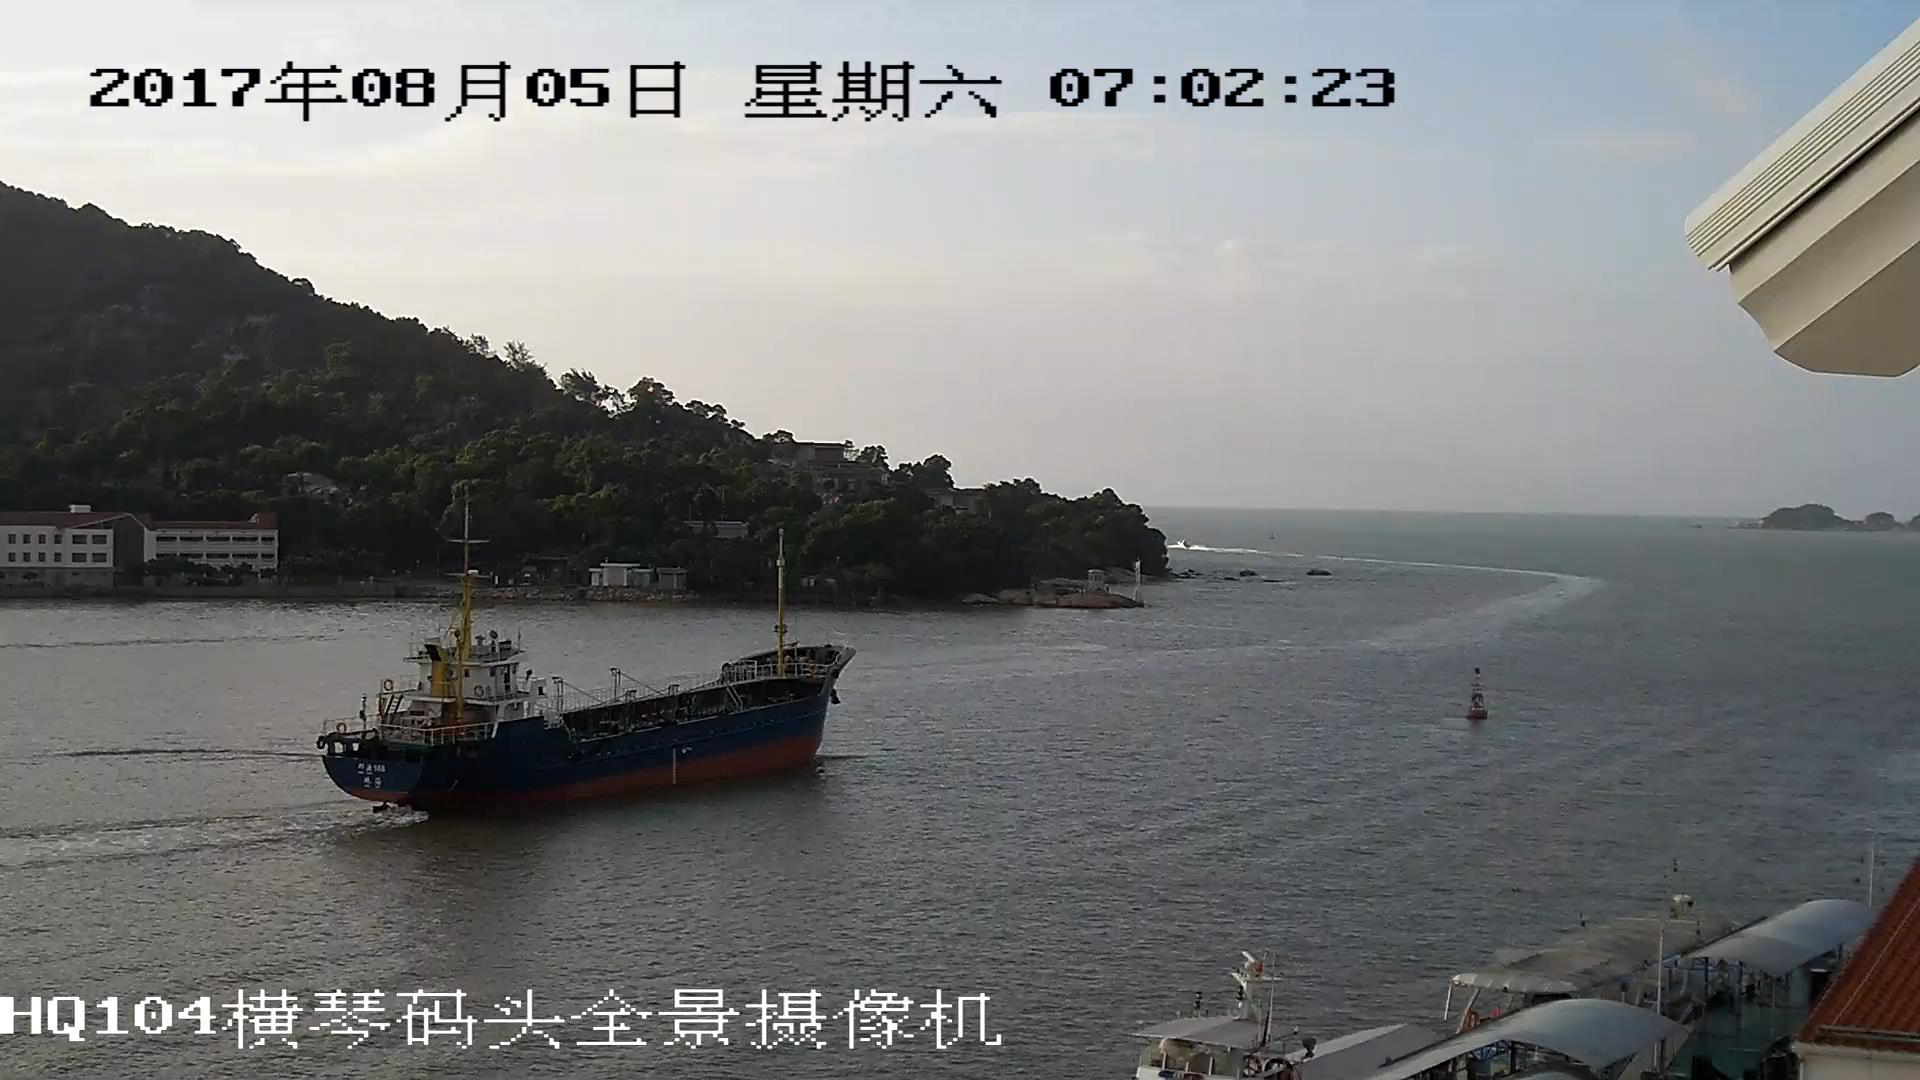Ship: (320, 527, 858, 822)
